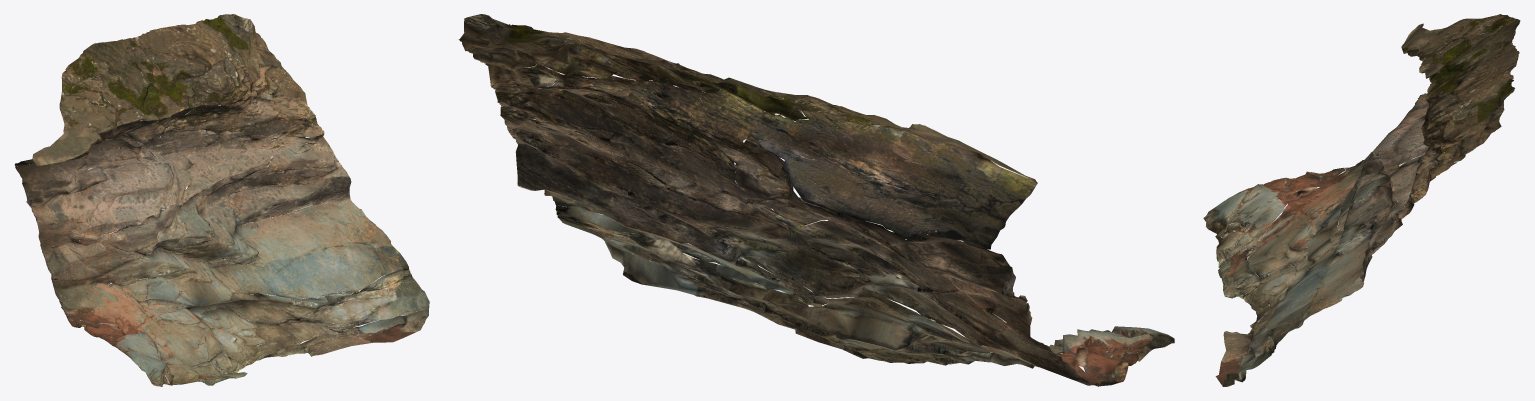
The model's file is rock_face_01.glb.
The picture shows the model from 3 angles, left to right: view 1: azimuth 30°, elevation 25°; view 2: azimuth 150°, elevation 25°; view 3: azimuth 270°, elevation 25°; orthographic projection. The views are drawn at different scales.
Parts seen in each view (by area): view 1: rock_face_01; view 2: rock_face_01; view 3: rock_face_01.
Boxes of the visible parts, x1,y1,x2,y2 form: rock_face_01: (15,14,429,386); rock_face_01: (458,14,1174,386); rock_face_01: (1203,14,1520,386).
Size of the model in its own units: 4.95 by 3.57 by 3.83.
1 material, 1 textured.
